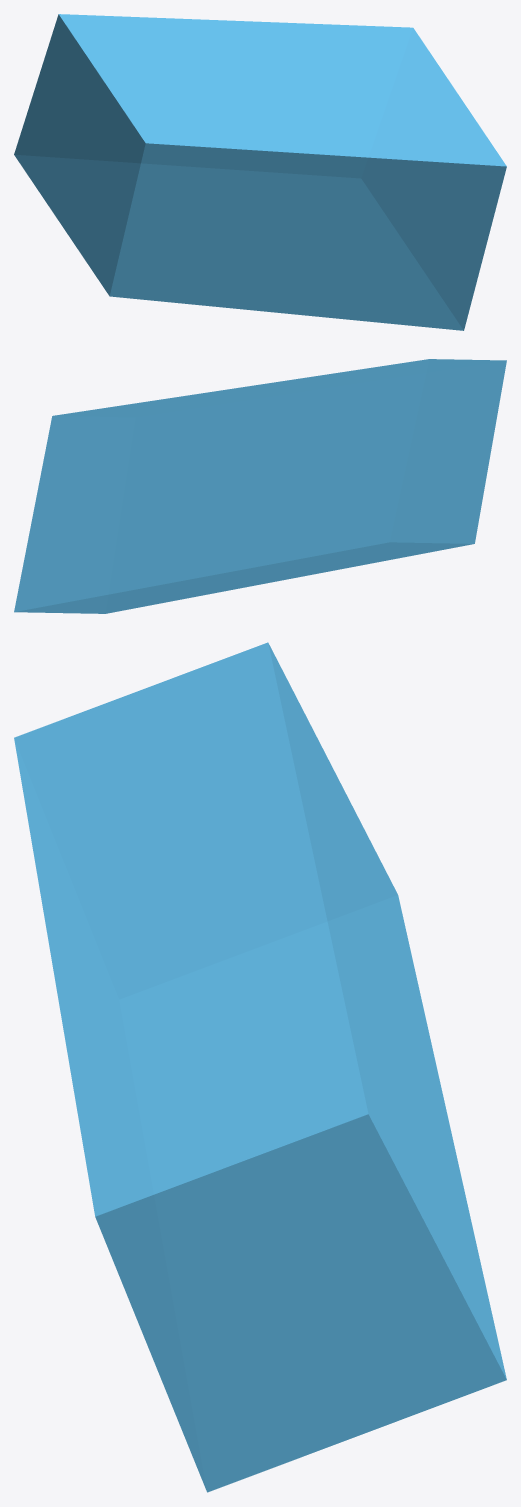
The model's file is Event_421127236_HErechit_11.fbx.
3 views of the same model, one above another, from view 1: azimuth 30°, elevation 25°; view 2: azimuth 150°, elevation 25°; view 3: azimuth 270°, elevation 25° (orthographic). The views are drawn at different scales.
Parts seen in each view (by area): view 1: Model; view 2: Model; view 3: Model.
Boxes of the visible parts, <box> form: Model: <box>14,14,506,330</box>; Model: <box>14,359,506,613</box>; Model: <box>14,642,506,1492</box>.
Bounding box in the file's own units: 0.7654 × 0.7432 × 0.5759.
